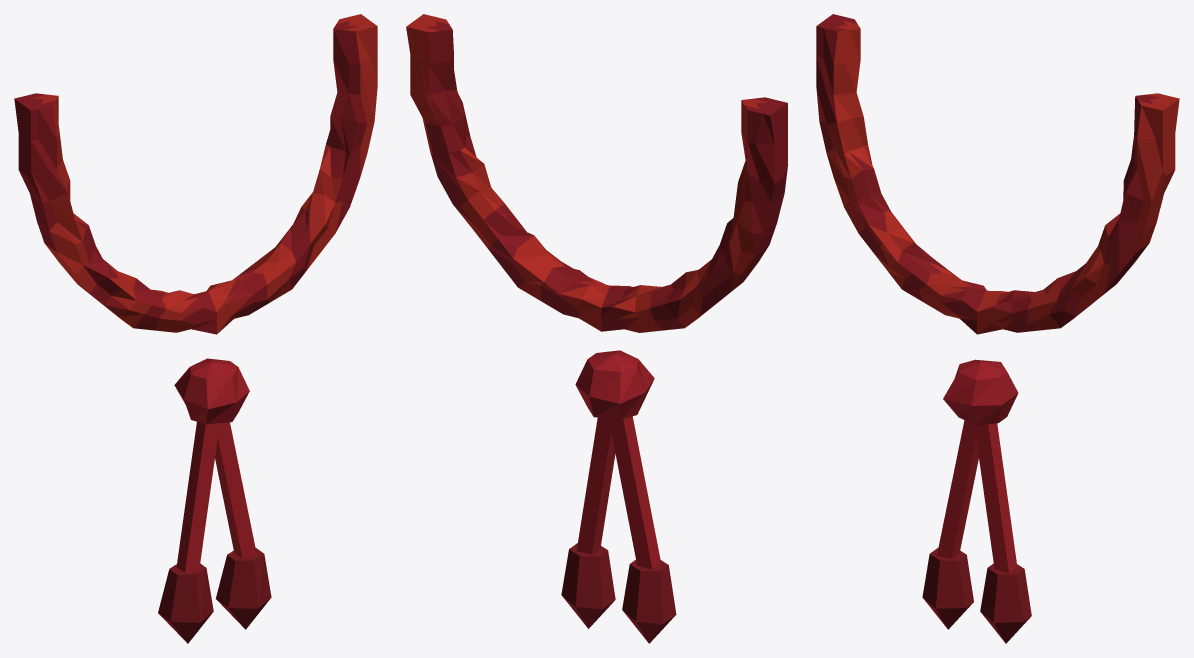
The model's file is B13_2_crimson_cord_necklace.obj.
3 renders of one model, left to right at view 1: azimuth 30°, elevation 25°; view 2: azimuth 150°, elevation 25°; view 3: azimuth 330°, elevation 25°, orthographic. The views are drawn at different scales.
Visible parts, largest first — view 1: B13_2_crimson_cord_necklace; view 2: B13_2_crimson_cord_necklace; view 3: B13_2_crimson_cord_necklace.
Boxes of the visible parts, x1,y1,x2,y2 form: B13_2_crimson_cord_necklace: [14, 14, 377, 643]; B13_2_crimson_cord_necklace: [406, 14, 787, 643]; B13_2_crimson_cord_necklace: [816, 14, 1179, 643].
Size of the model in its own units: 48 by 74 by 10.
